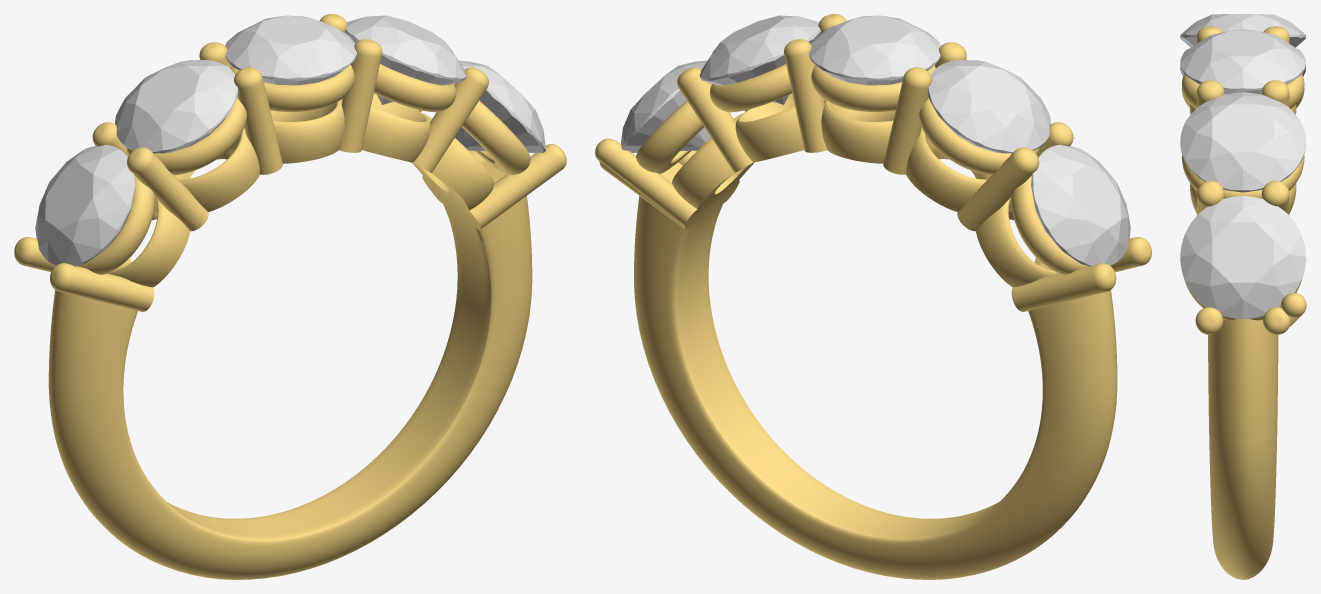
File: NatewbYG_blender.glb
3 views of the same model, side by side, from view 1: azimuth 30°, elevation 25°; view 2: azimuth 150°, elevation 25°; view 3: azimuth 270°, elevation 25° (orthographic). The views are drawn at different scales.
Visible parts, largest first — view 1: Nate wb YG for 3d model, Nate wb dia for 3d model.004, Nate wb dia for 3d model.003, Nate wb dia for 3d model.002, Nate wb dia for 3d model.001, Nate wb dia for 3d model; view 2: Nate wb YG for 3d model, Nate wb dia for 3d model.004, Nate wb dia for 3d model.003, Nate wb dia for 3d model.002, Nate wb dia for 3d model.001, Nate wb dia for 3d model; view 3: Nate wb YG for 3d model, Nate wb dia for 3d model, Nate wb dia for 3d model.001, Nate wb dia for 3d model.002, Nate wb dia for 3d model.003.
Part boxes in pixels (x1,y1,x2,y2): Nate wb YG for 3d model: [14, 14, 566, 579]; Nate wb dia for 3d model.004: [35, 145, 135, 266]; Nate wb dia for 3d model.003: [115, 60, 238, 153]; Nate wb dia for 3d model.002: [225, 15, 356, 85]; Nate wb dia for 3d model.001: [345, 15, 466, 104]; Nate wb dia for 3d model: [455, 60, 545, 153]; Nate wb YG for 3d model: [595, 14, 1151, 579]; Nate wb dia for 3d model.004: [1031, 144, 1130, 266]; Nate wb dia for 3d model.003: [927, 60, 1051, 153]; Nate wb dia for 3d model.002: [809, 15, 940, 85]; Nate wb dia for 3d model.001: [699, 15, 821, 104]; Nate wb dia for 3d model: [621, 60, 710, 152]; Nate wb YG for 3d model: [1181, 26, 1306, 579]; Nate wb dia for 3d model: [1180, 196, 1305, 319]; Nate wb dia for 3d model.001: [1180, 92, 1305, 192]; Nate wb dia for 3d model.002: [1180, 29, 1305, 94]; Nate wb dia for 3d model.003: [1180, 14, 1305, 47].
Size of the model in its own units: 22.23 by 22.45 by 5.03.
